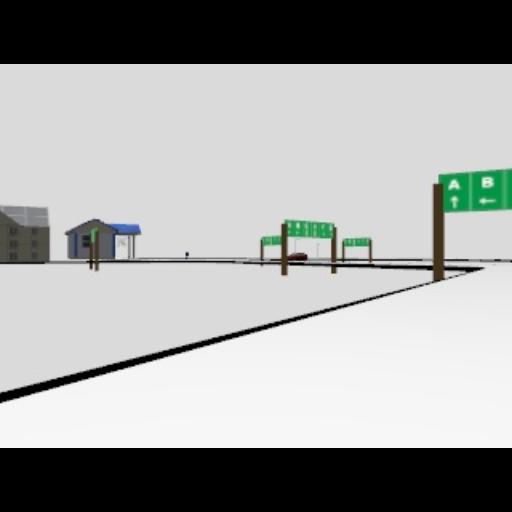A: (448, 179, 460, 189)
B: (480, 176, 492, 188)
Left: (477, 197, 495, 203)
Straight: (450, 196, 458, 208)
